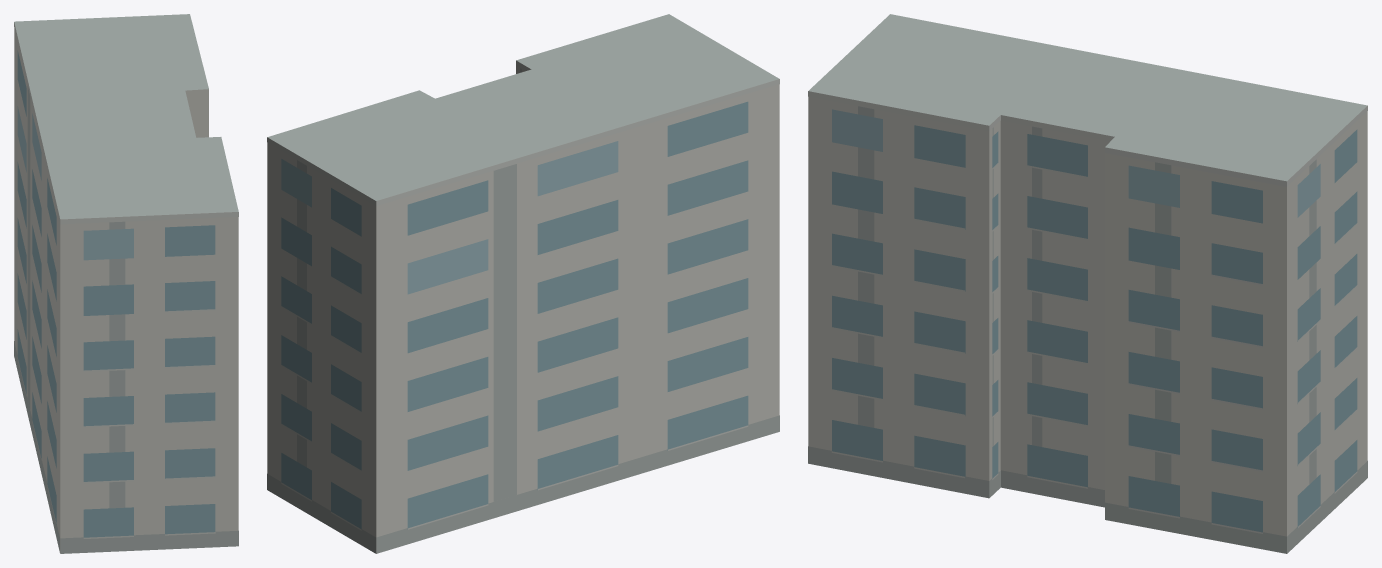
Rendered from survey-upis-33033970.glb.
3 views of the same model, side by side, from view 1: azimuth 30°, elevation 25°; view 2: azimuth 150°, elevation 25°; view 3: azimuth 270°, elevation 25° (orthographic). The views are drawn at different scales.
Visible parts, largest first — view 1: survey-upis-33033970.tmp; view 2: survey-upis-33033970.tmp; view 3: survey-upis-33033970.tmp.
Boxes of the visible parts, x1,y1,x2,y2 form: survey-upis-33033970.tmp: [14, 14, 238, 553]; survey-upis-33033970.tmp: [267, 14, 779, 553]; survey-upis-33033970.tmp: [808, 14, 1367, 553].
Size of the model in its own units: 15.71 by 16.3 by 22.2.
